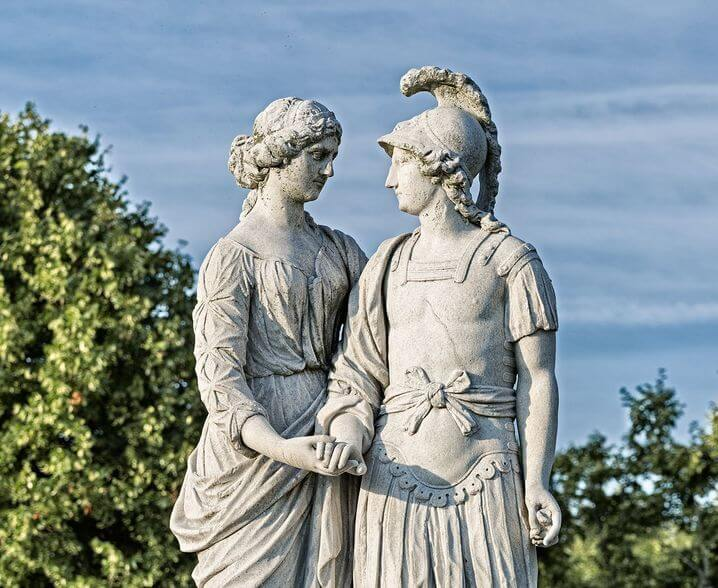person-like: (313, 64, 568, 588), (163, 92, 375, 588)
